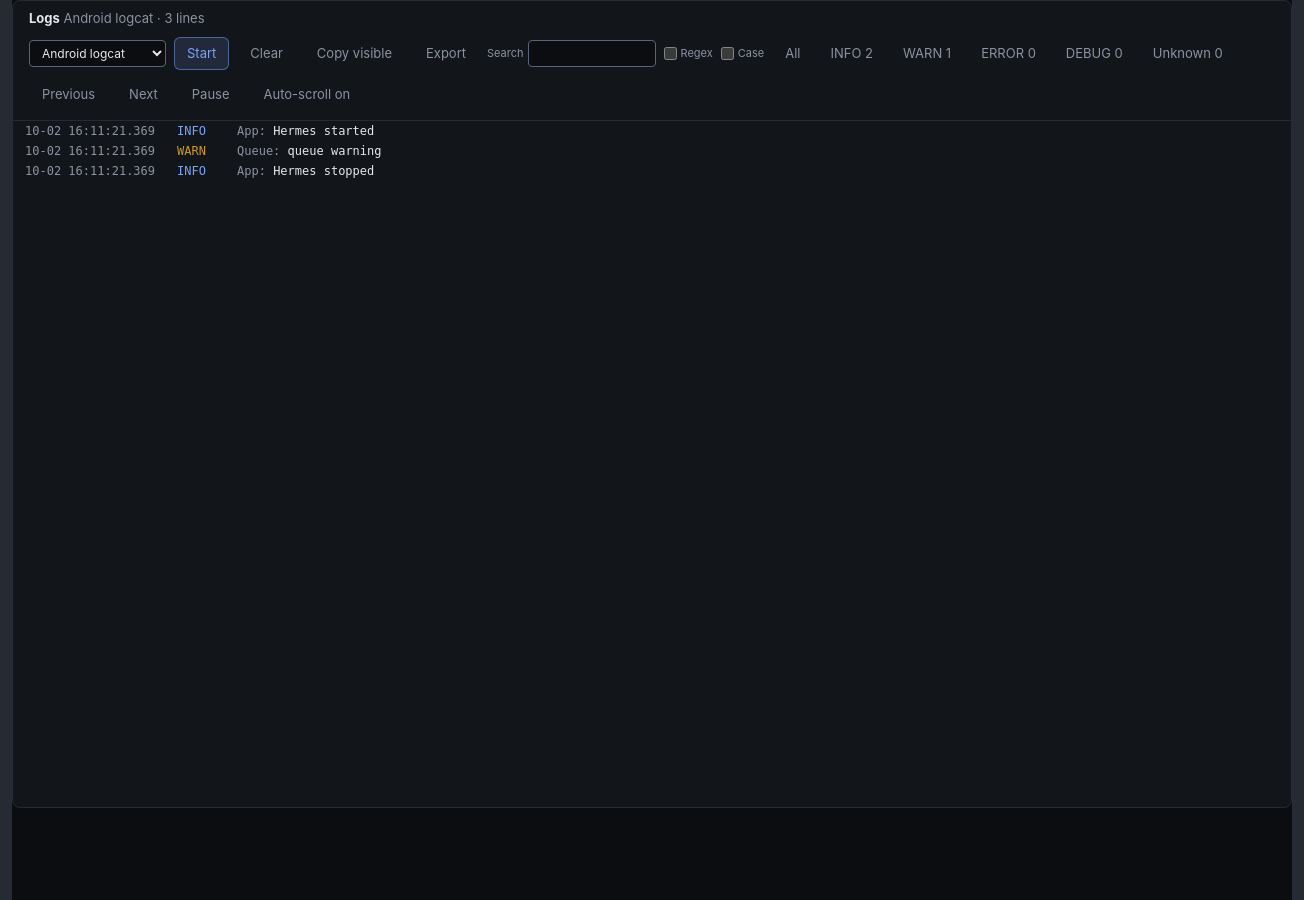
Scenario: LogsView › searches text and regex, toggles case, highlights matches, and reports invalid regex
The width and height of the screenshot is (1304, 900).
In the search field named "Search logs": (592, 53) x1=528 y1=40 x2=656 y2=66, type "hermes"
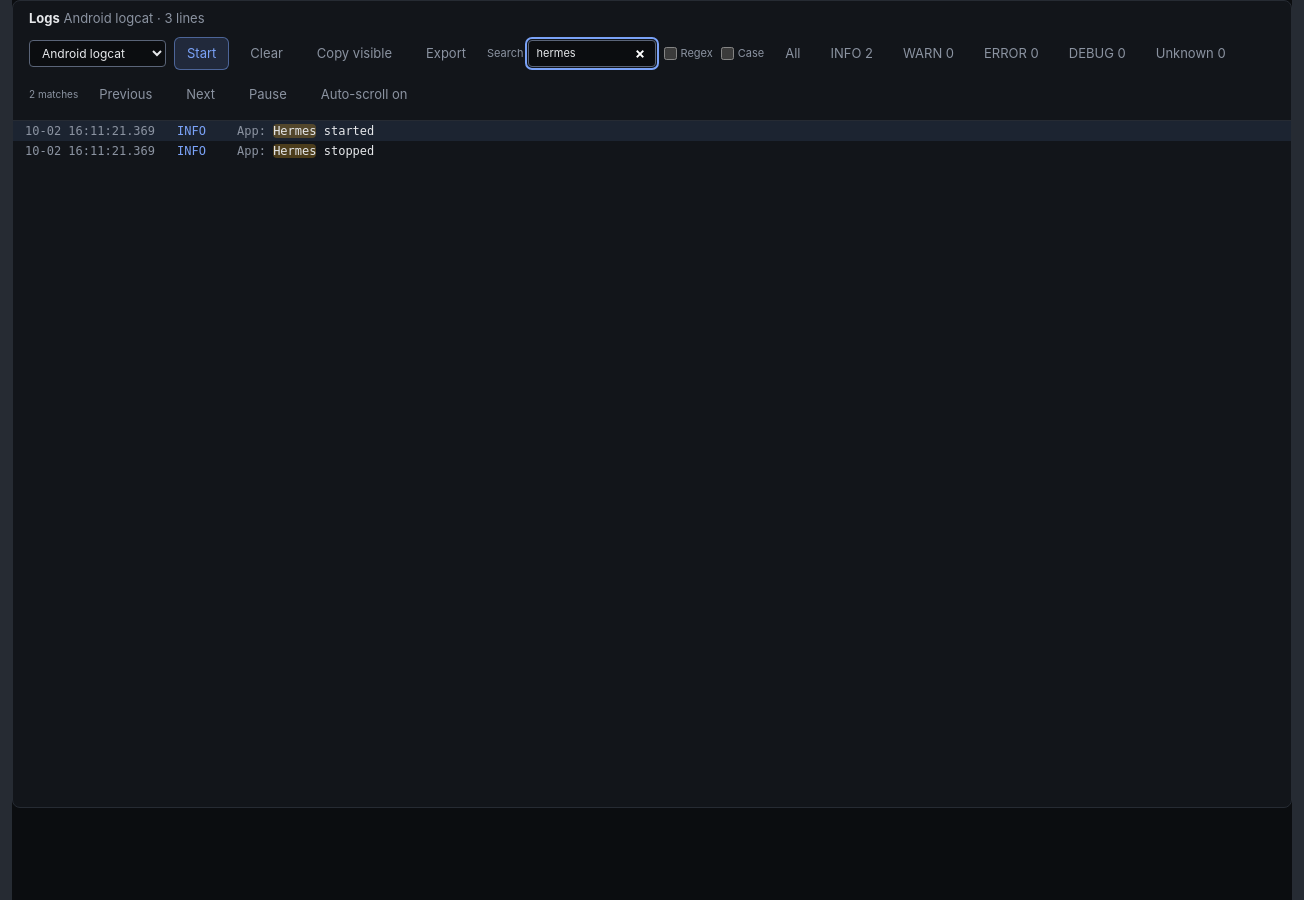
Check: the text "Android logcat · 3 lines" is shown, box x1=64 y1=10 x2=204 y2=26
Check: the text "2 matches" is shown, box x1=29 y1=87 x2=78 y2=102
Check: the button "queue warning" is gone
Click the checkbox named "Case sensitive": (727, 53) x1=721 y1=47 x2=734 y2=60
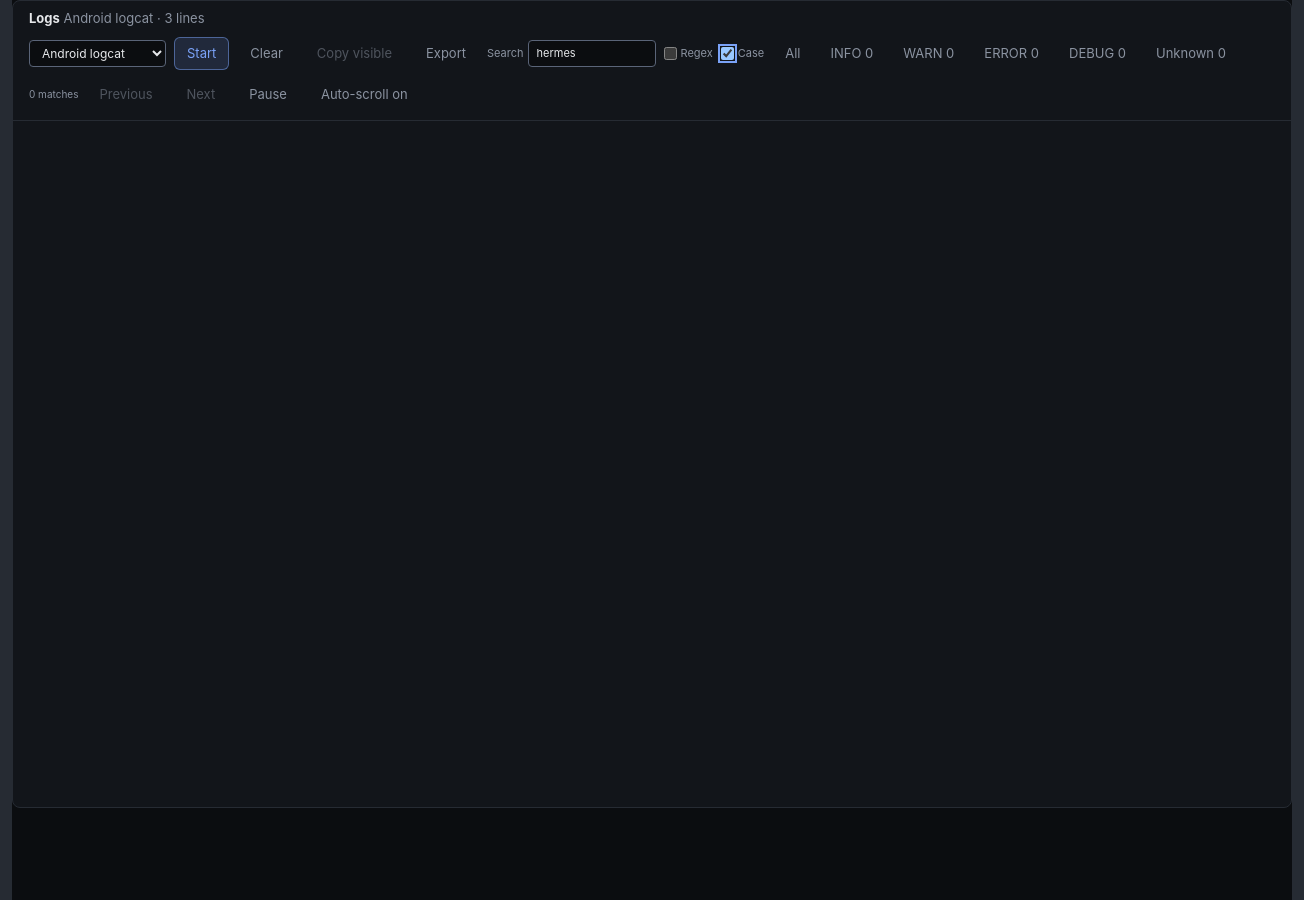
Check: the text "0 matches" is shown, box x1=29 y1=87 x2=78 y2=102
Click the checkbox named "Case sensitive": (727, 53) x1=721 y1=47 x2=734 y2=60
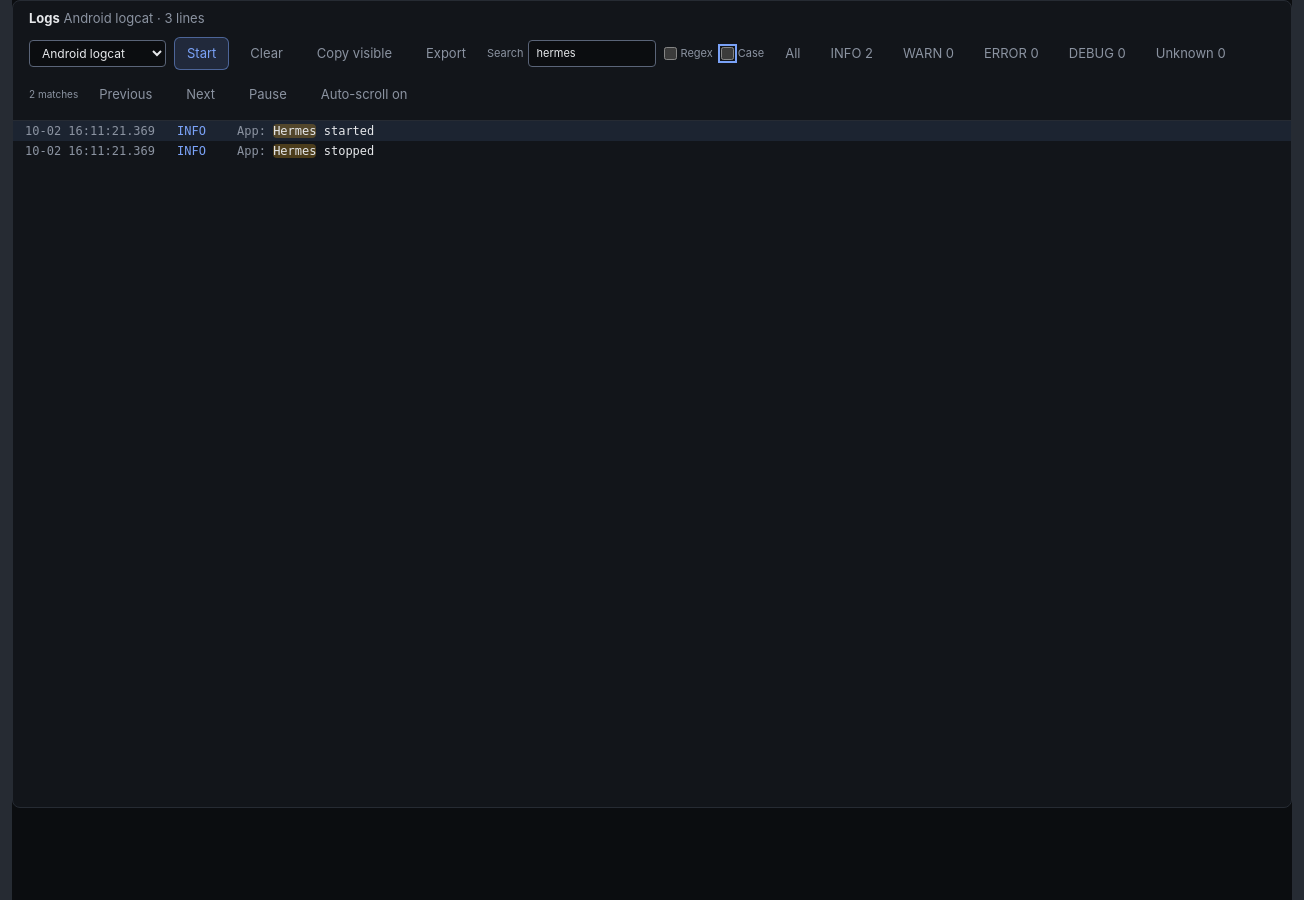
Check: the text "2 matches" is shown, box x1=29 y1=87 x2=78 y2=102
Replace the text in the search field named "Search logs" with "warning": (592, 53) x1=528 y1=40 x2=656 y2=66
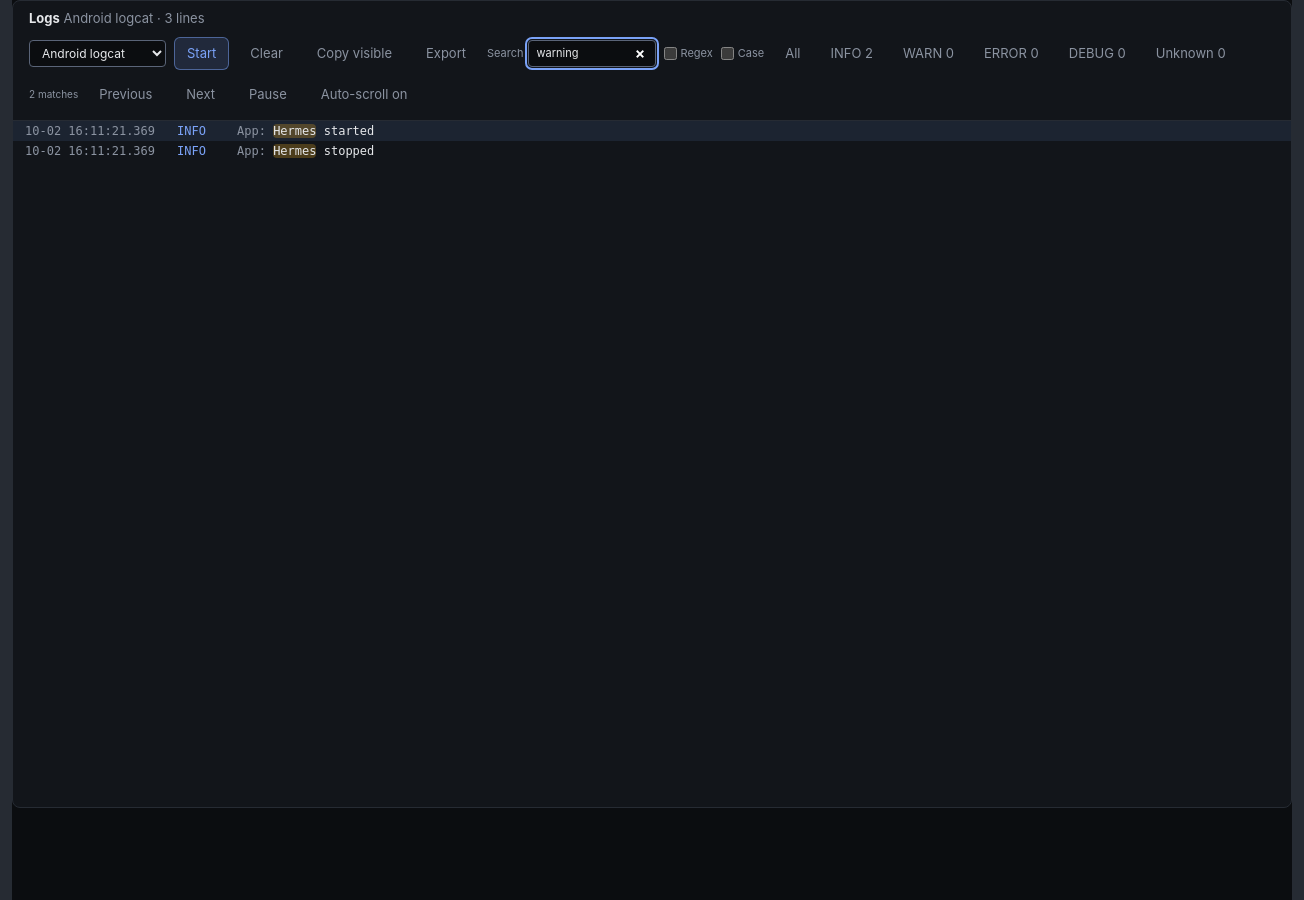
Click the checkbox named "Use regular expression": (670, 53) x1=664 y1=47 x2=676 y2=60
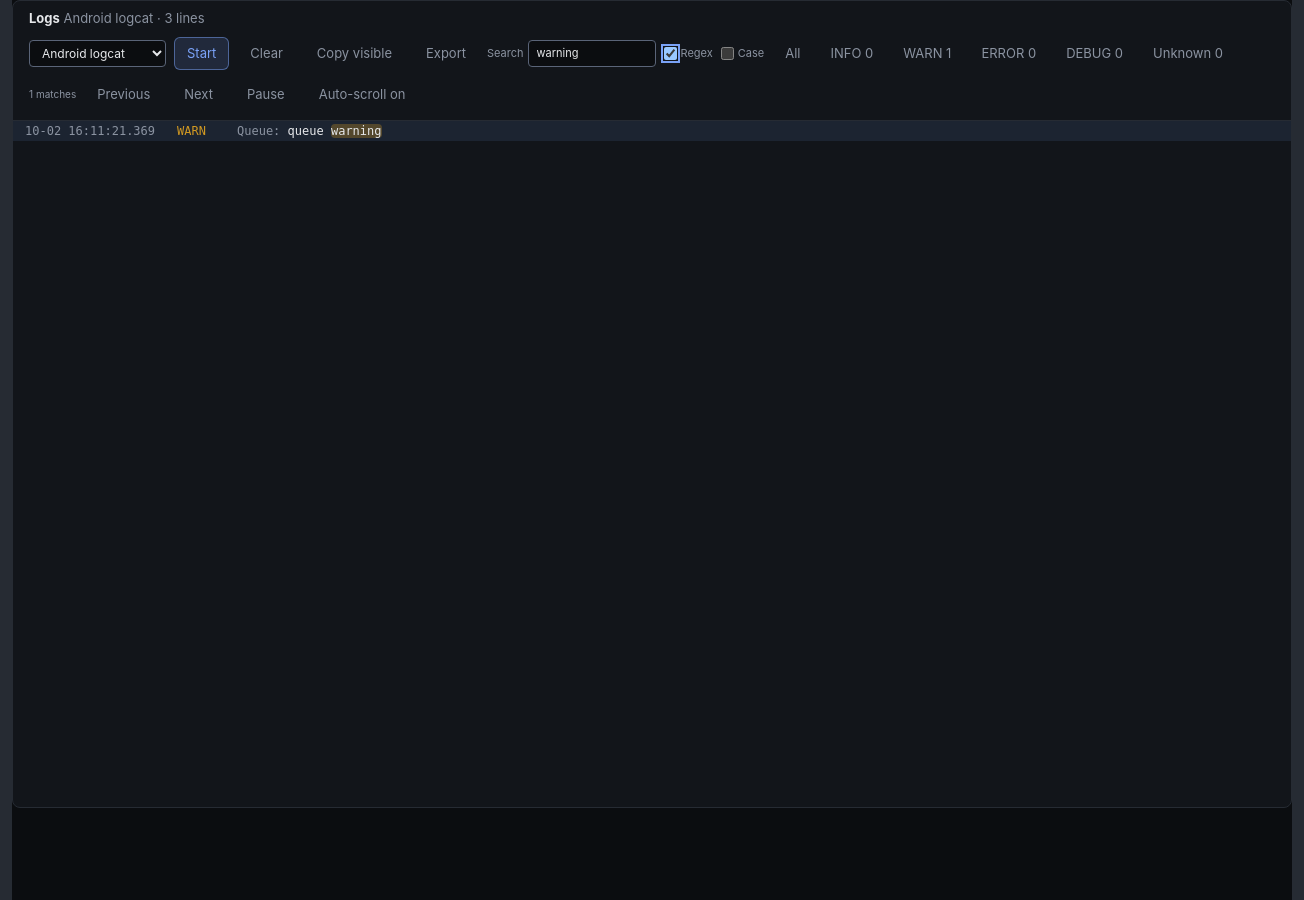
Check: the button with aria-label "Next log match" is enabled, box x1=171 y1=78 x2=226 y2=112
Check: the text "1 matches" is shown, box x1=29 y1=87 x2=76 y2=102
Replace the text in the search field named "Search logs" with "[": (592, 53) x1=528 y1=40 x2=656 y2=66
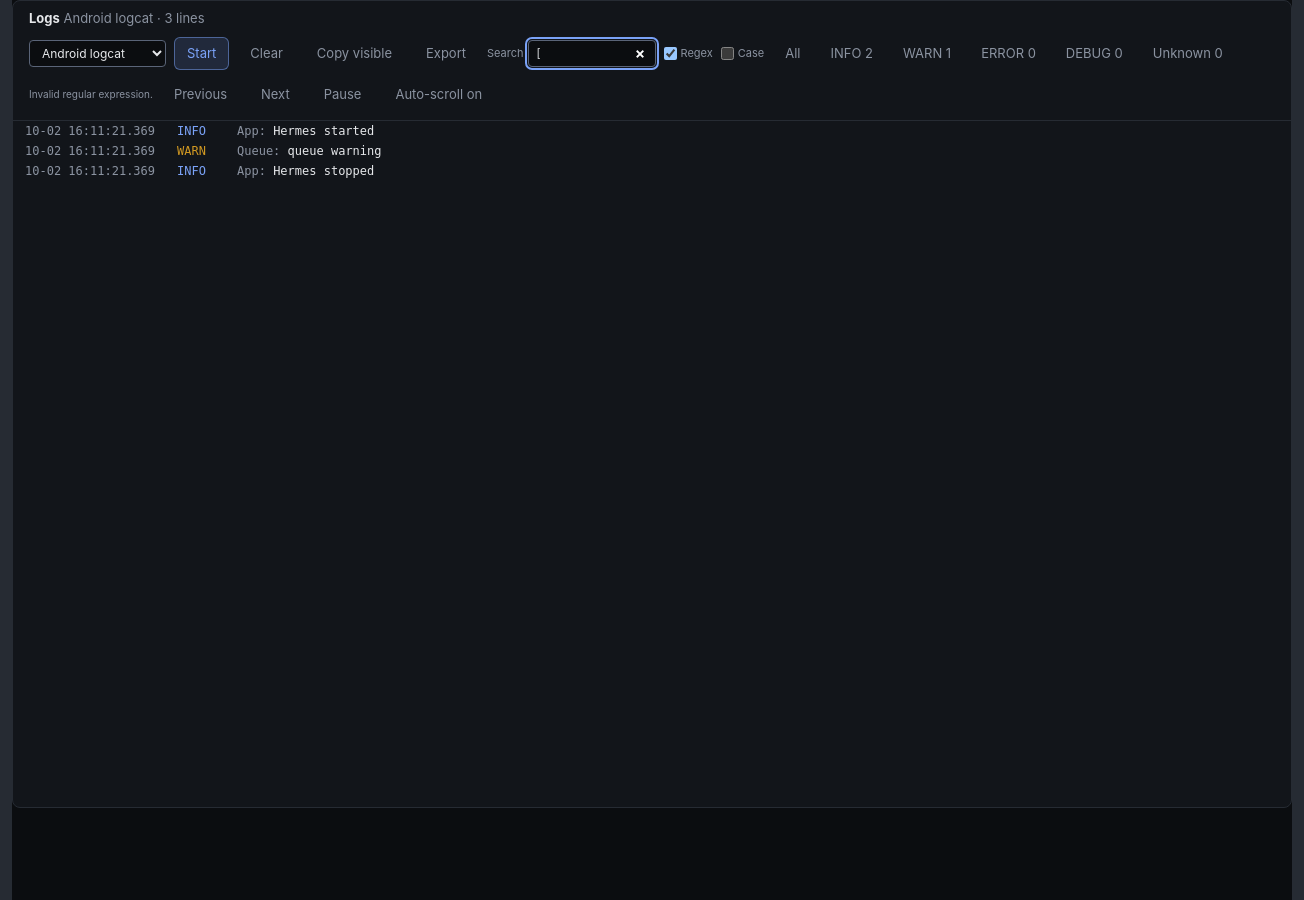
Check: the message shows "Invalid regular expression", box x1=29 y1=88 x2=153 y2=100
